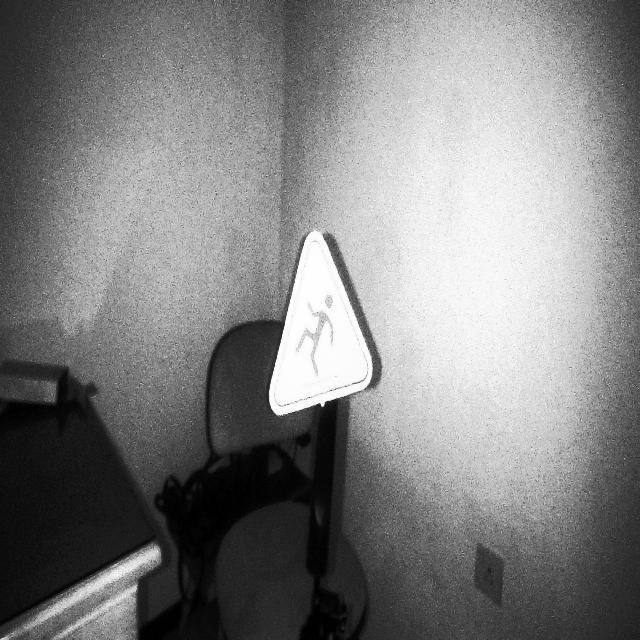Sign: (268, 229, 374, 418)
